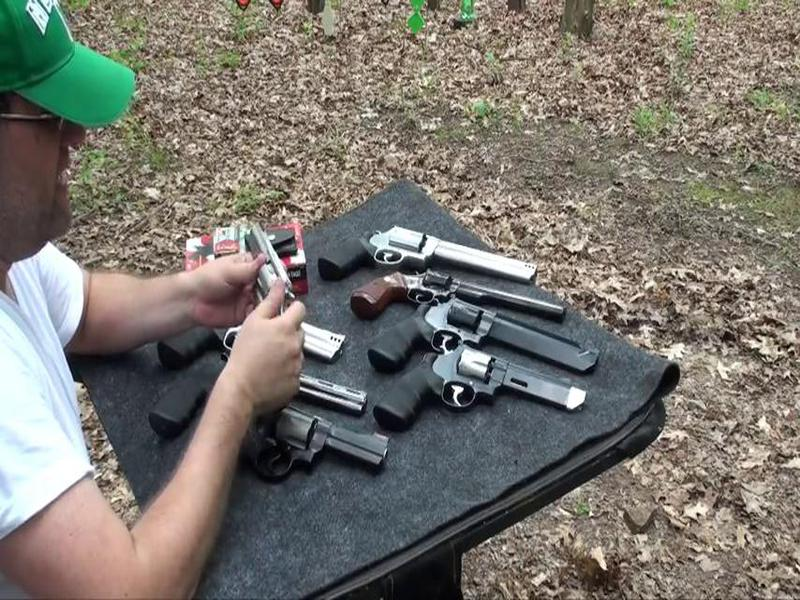Revolver: (350, 255, 599, 334)
